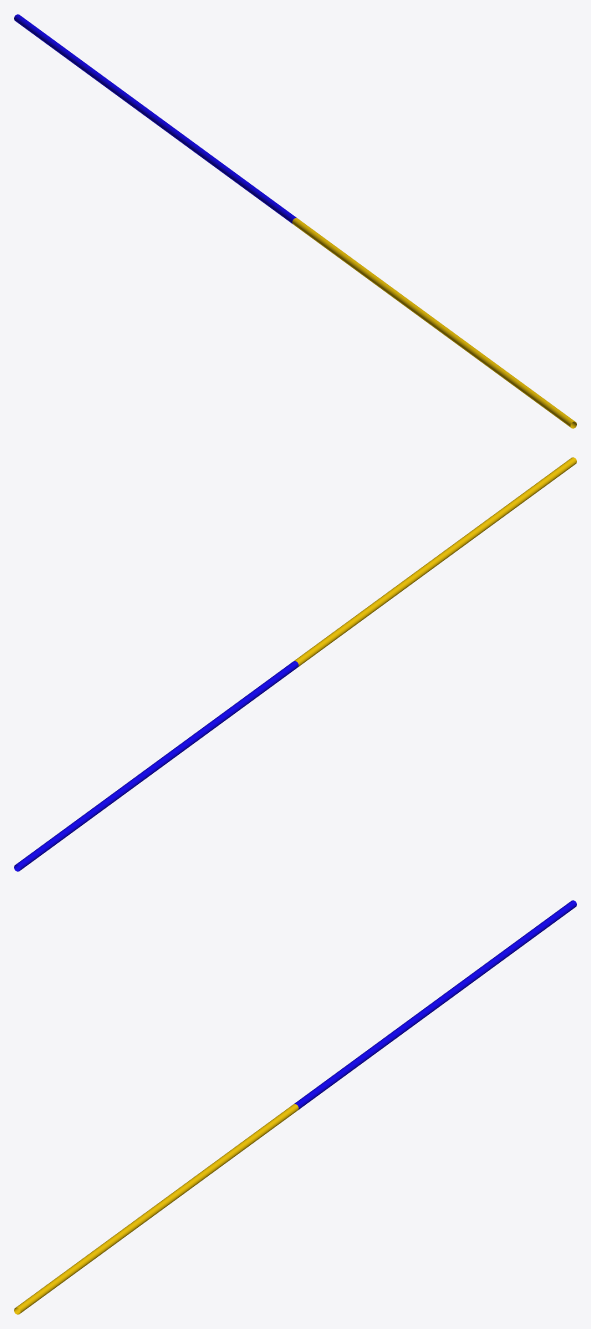
The model's file is Middle.fbx.
3 renders of one model, top to bottom at view 1: azimuth 30°, elevation 25°; view 2: azimuth 150°, elevation 25°; view 3: azimuth 330°, elevation 25°, orthographic.
Visible parts, largest first — view 1: Middle; view 2: Middle; view 3: Middle.
Boxes of the visible parts, bbox=[...] form: Middle: bbox=[14, 14, 576, 428]; Middle: bbox=[14, 457, 576, 871]; Middle: bbox=[14, 900, 576, 1314].
Size of the model in its own units: 0.00681 by 0.00681 by 1.
